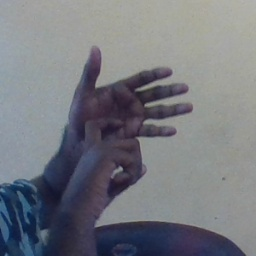R: (52, 44, 209, 194)
